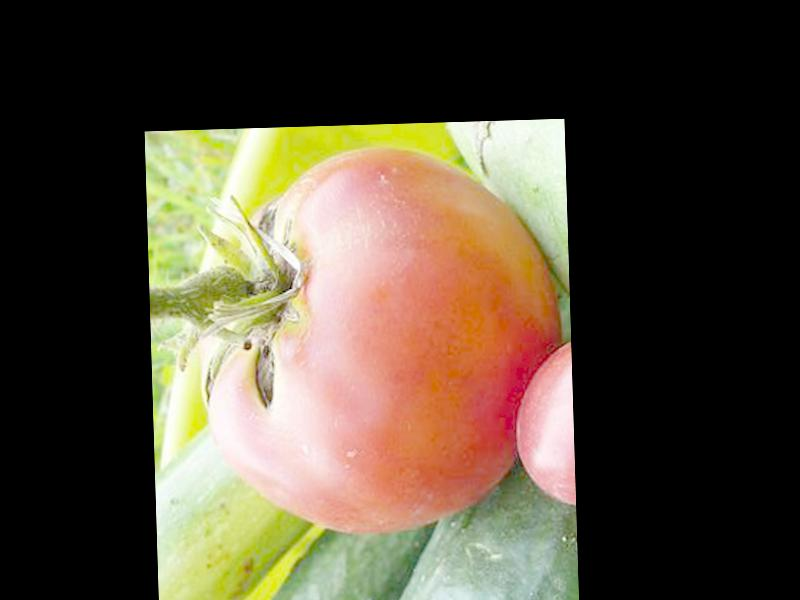Tomato: (199, 141, 567, 535)
